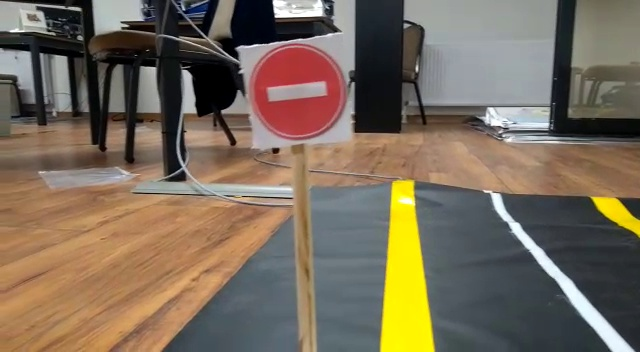girisi_olmayan_yol: (235, 44, 353, 143)
